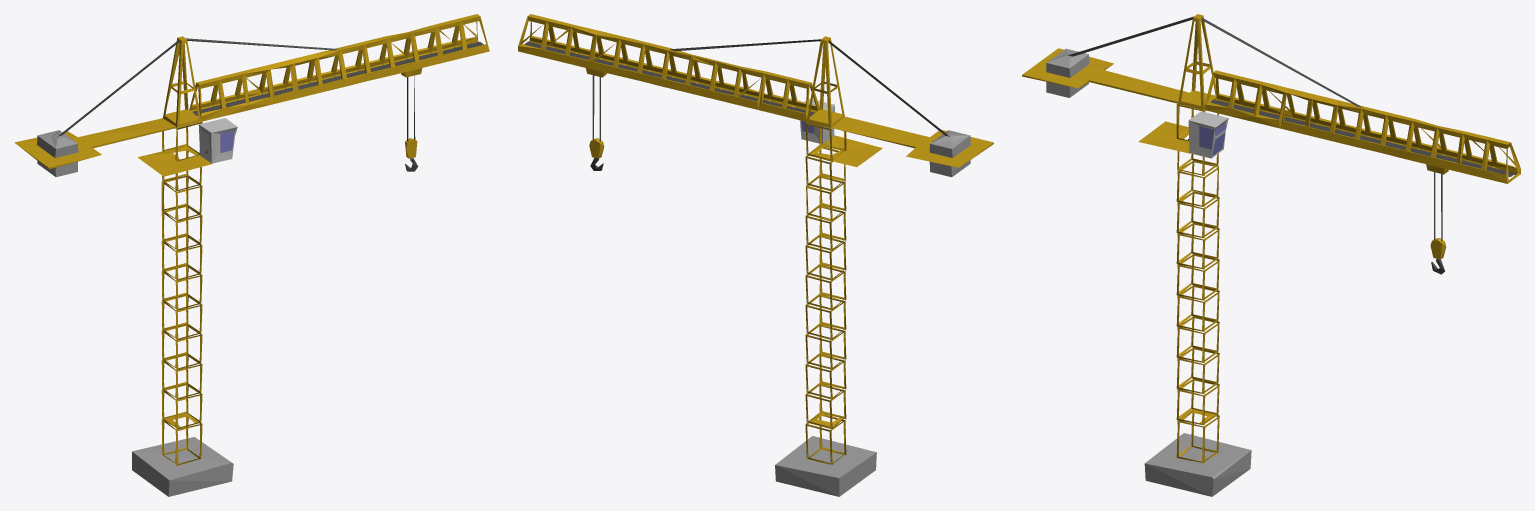
Rendered from crane.glb.
3 renders of one model, left to right at view 1: azimuth 30°, elevation 25°; view 2: azimuth 150°, elevation 25°; view 3: azimuth 330°, elevation 25°, orthographic. The views are drawn at different scales.
Parts seen in each view (by area): view 1: Crane.001; view 2: Crane.001; view 3: Crane.001.
Boxes of the visible parts, x1,y1,x2,y2 form: Crane.001: (14,14,489,496); Crane.001: (518,14,993,496); Crane.001: (1022,14,1520,496).
Bounding box in the file's own units: 2.4 × 2.22 × 0.3576.
